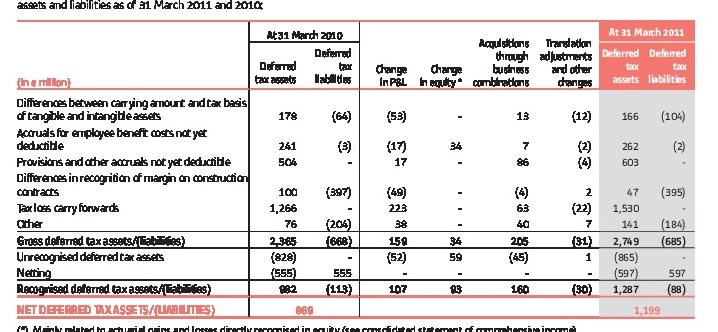table: (0, 0, 718, 332)
